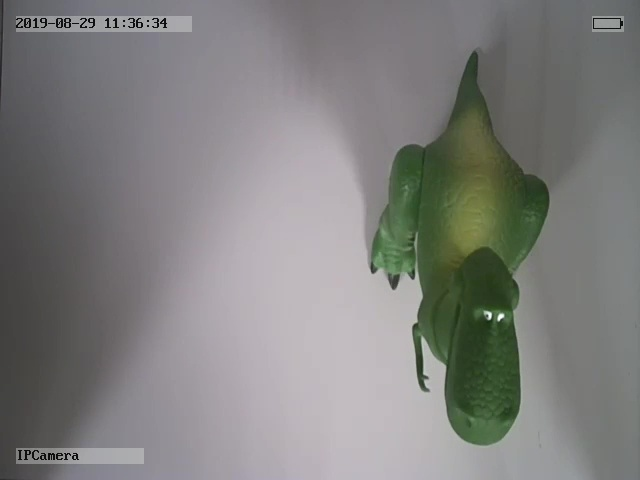rex: (368, 49, 548, 448)
